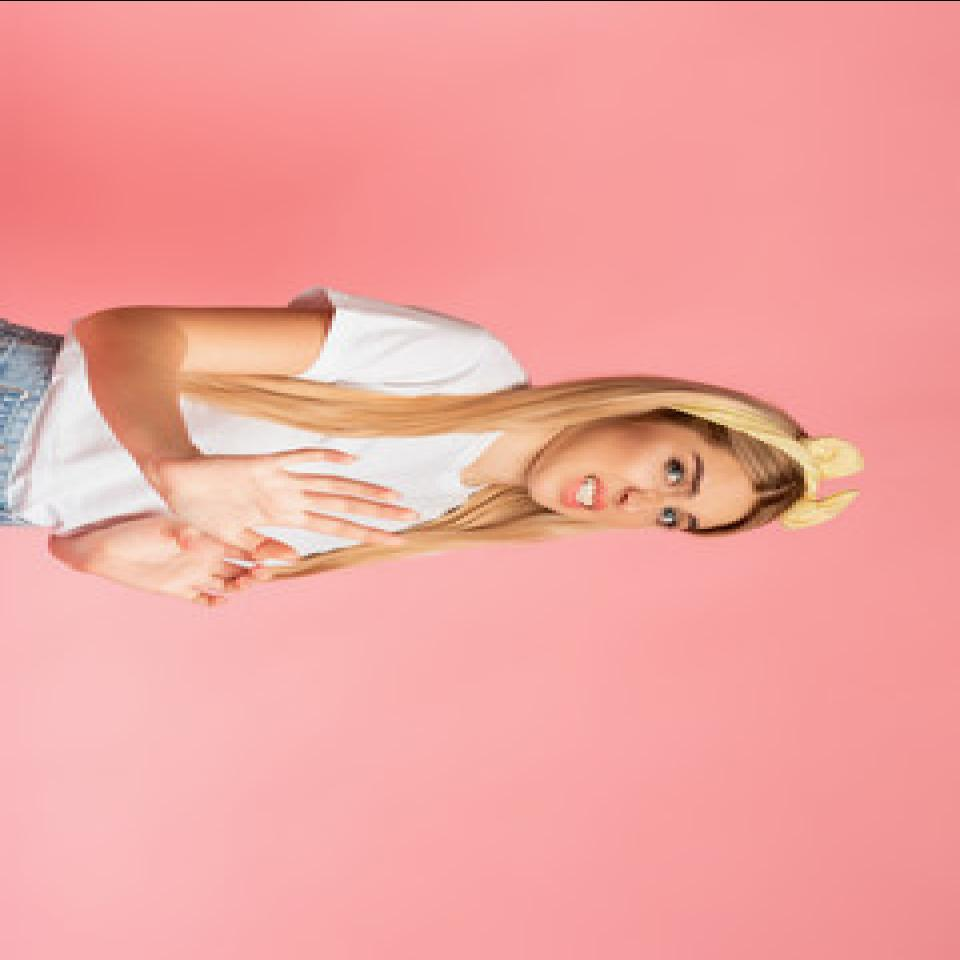Disgust: (526, 416, 766, 528)
